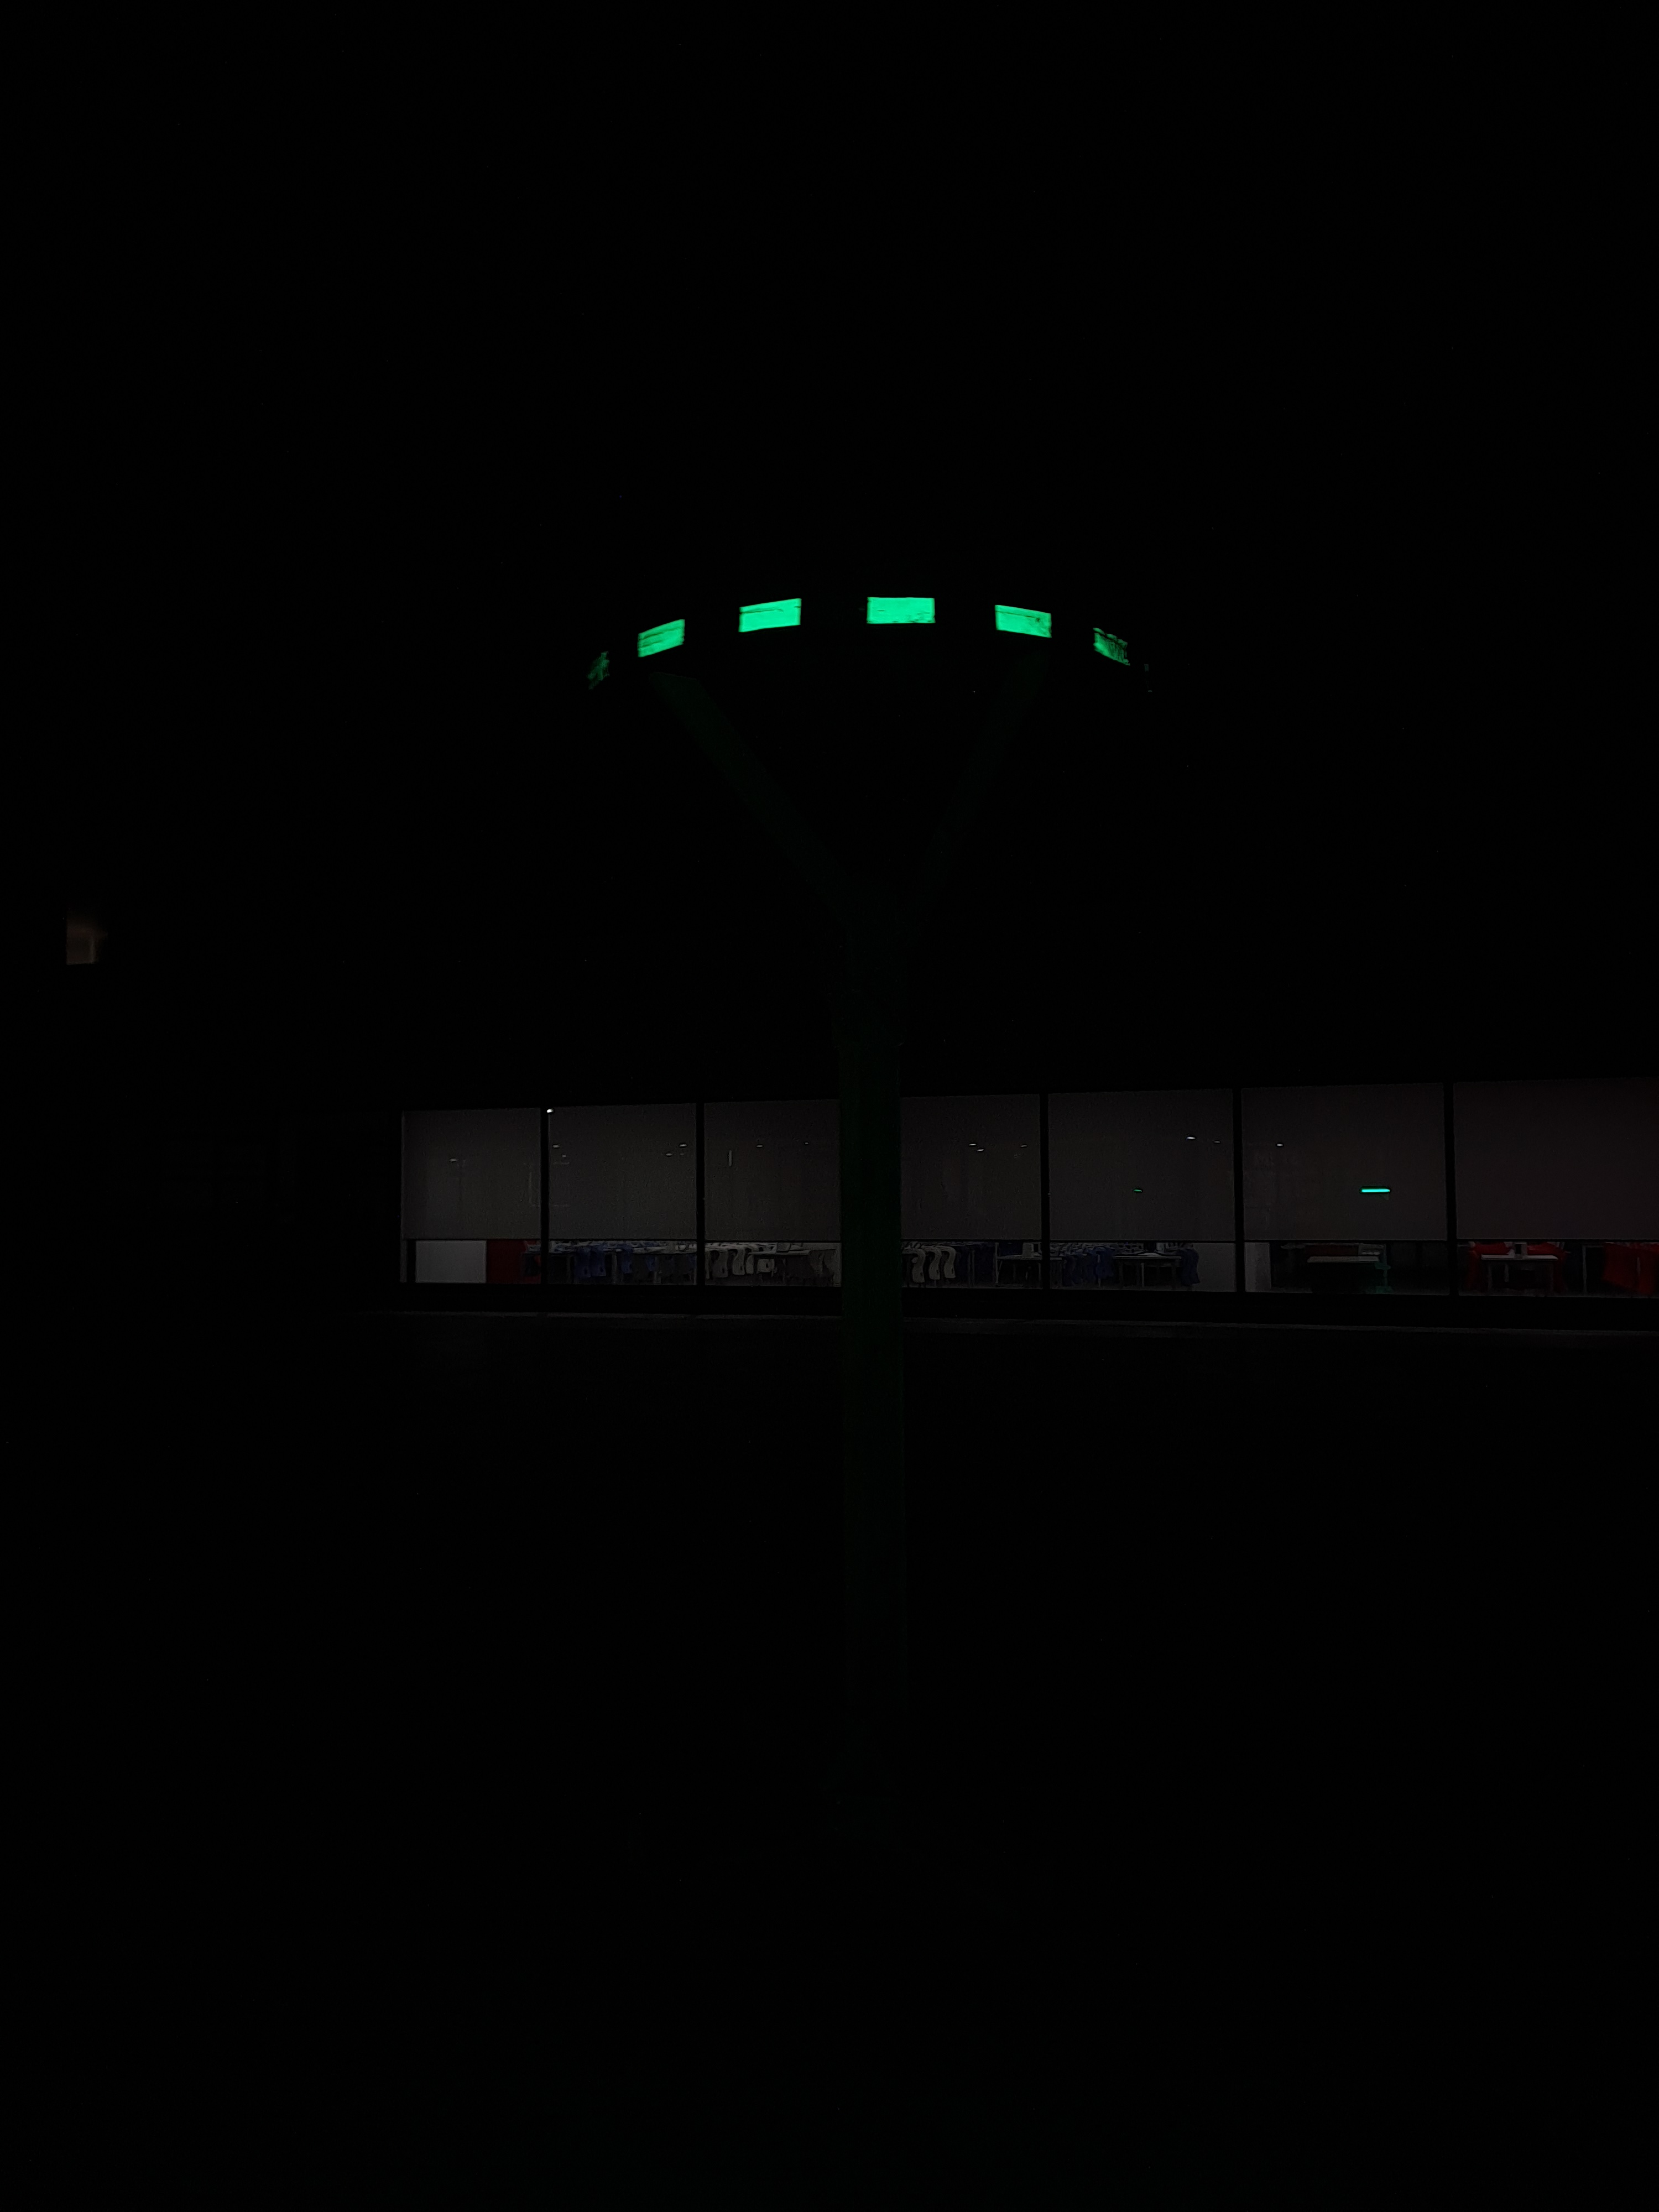hoop: (629, 590, 1136, 676)
